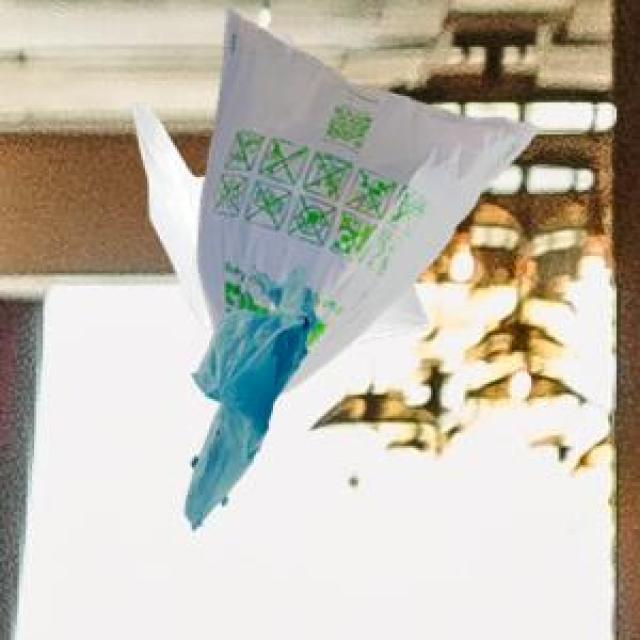waste: (136, 12, 529, 528)
